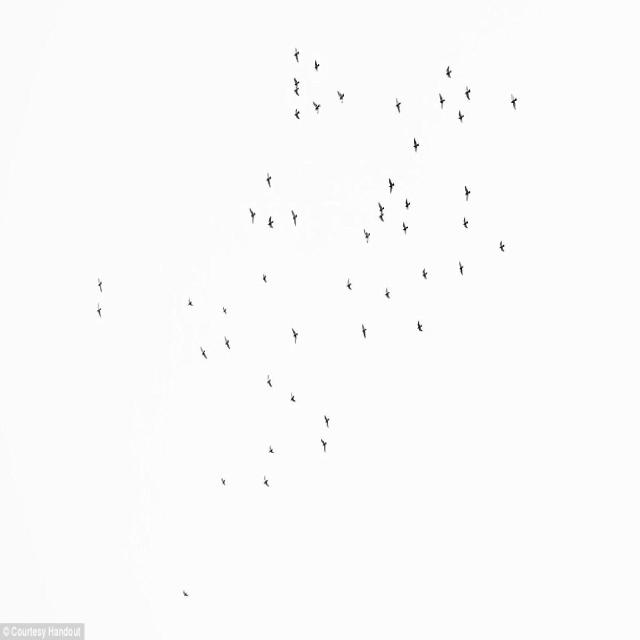bird: (377, 200, 387, 222), (288, 209, 298, 230), (292, 77, 302, 97), (386, 178, 396, 196), (291, 328, 301, 346), (317, 438, 328, 454), (360, 324, 370, 340), (412, 136, 422, 152), (456, 262, 466, 278), (247, 209, 257, 225), (403, 197, 413, 212), (266, 217, 276, 232), (414, 318, 424, 333), (265, 173, 274, 189), (95, 302, 104, 318), (96, 278, 105, 294), (312, 99, 322, 113), (509, 96, 519, 110), (199, 346, 209, 360), (321, 414, 331, 428), (464, 187, 473, 202), (312, 59, 321, 73), (421, 267, 430, 281), (438, 94, 447, 108), (456, 110, 465, 124), (465, 88, 474, 102), (345, 278, 354, 292), (396, 98, 404, 113), (336, 92, 346, 104), (463, 217, 471, 232), (402, 222, 411, 235), (499, 240, 508, 253), (363, 229, 372, 242), (383, 288, 391, 302), (294, 50, 302, 64), (261, 272, 269, 286), (294, 111, 304, 122), (290, 394, 299, 406), (445, 66, 454, 78), (224, 337, 232, 350), (266, 376, 274, 389), (219, 473, 226, 487), (263, 477, 271, 489), (182, 589, 191, 598), (268, 446, 275, 456), (186, 299, 193, 308), (221, 306, 227, 314)
